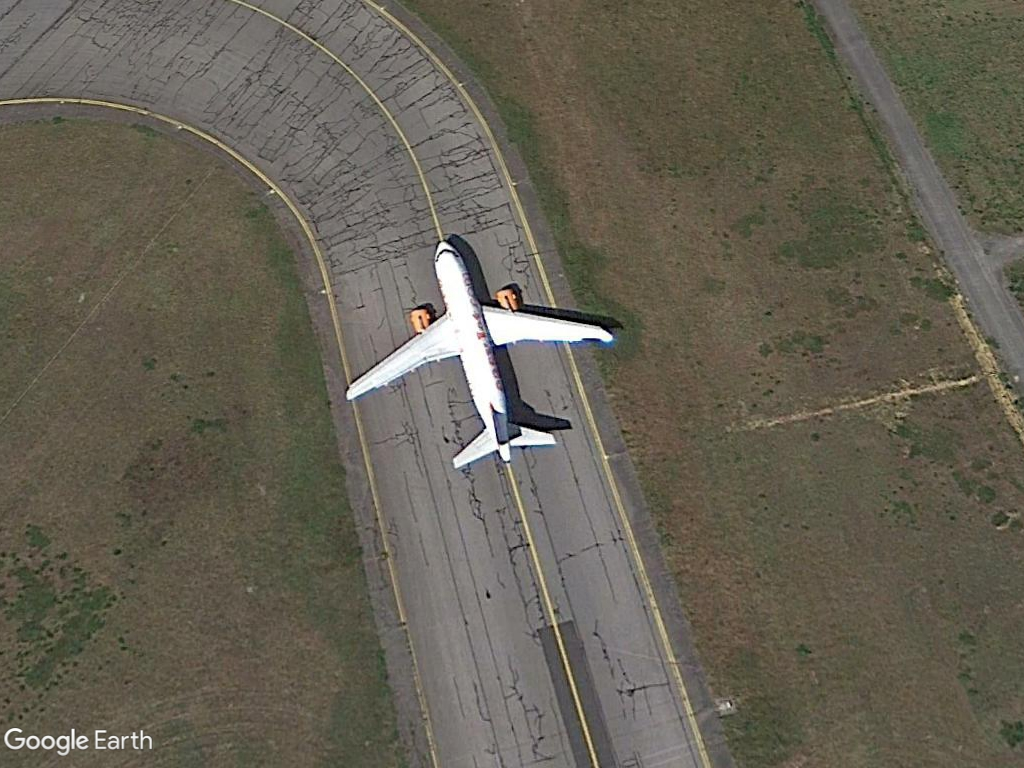airliner: (340, 229, 624, 475)
